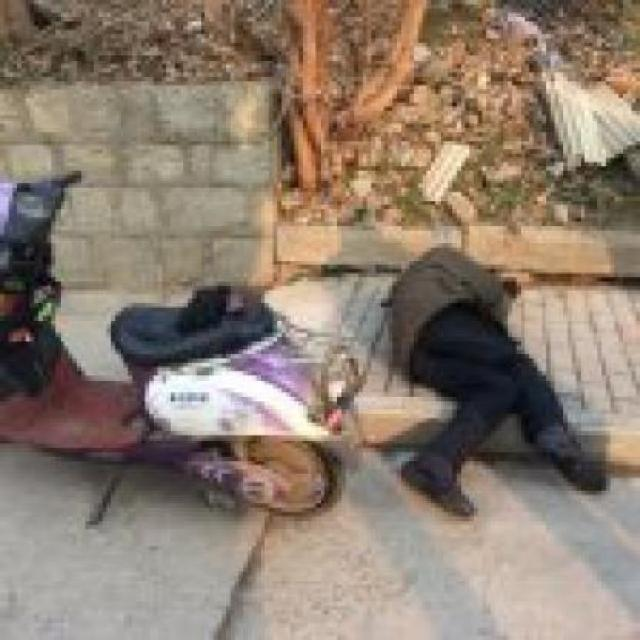fall: (345, 209, 627, 508)
